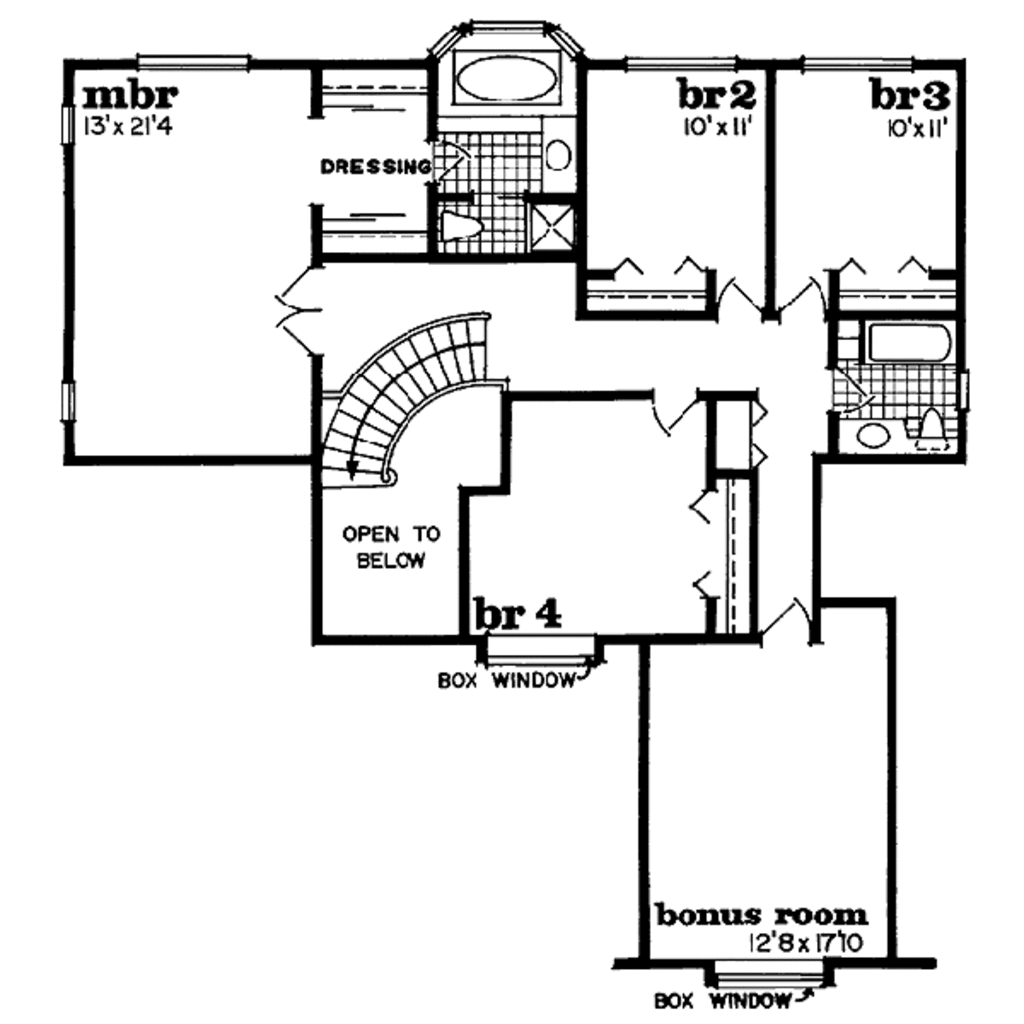door: (263, 273, 339, 360), (644, 387, 706, 447), (698, 274, 771, 320), (773, 276, 823, 324)
large_sink: (422, 200, 482, 247), (907, 411, 963, 454)
small_sink: (536, 124, 576, 193), (838, 412, 896, 452)
stairs: (323, 316, 507, 501)
tub: (450, 46, 584, 134), (855, 322, 961, 362)
window: (480, 627, 609, 682), (425, 11, 609, 46), (125, 43, 255, 90), (788, 47, 914, 81), (696, 952, 819, 981), (623, 49, 741, 78)
